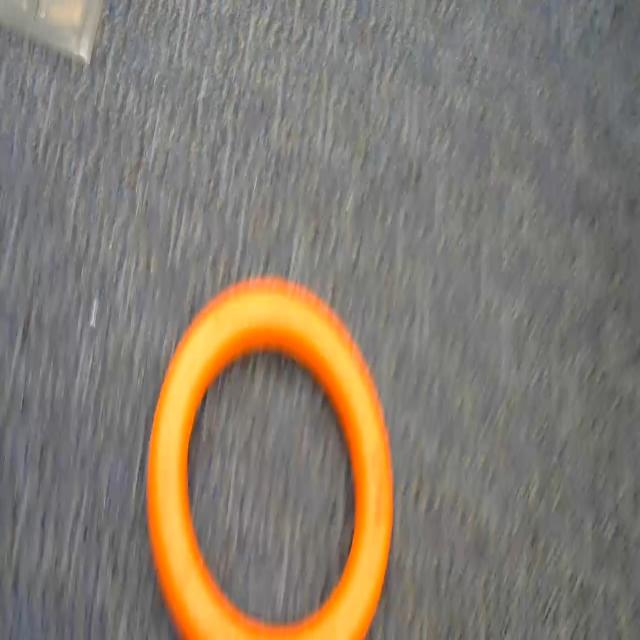note: (152, 267, 397, 640)
